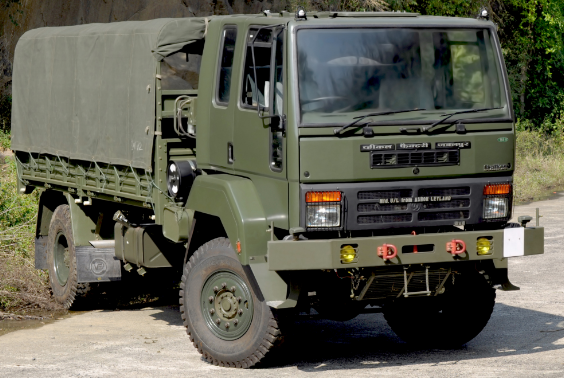truck: (1, 2, 540, 374)
